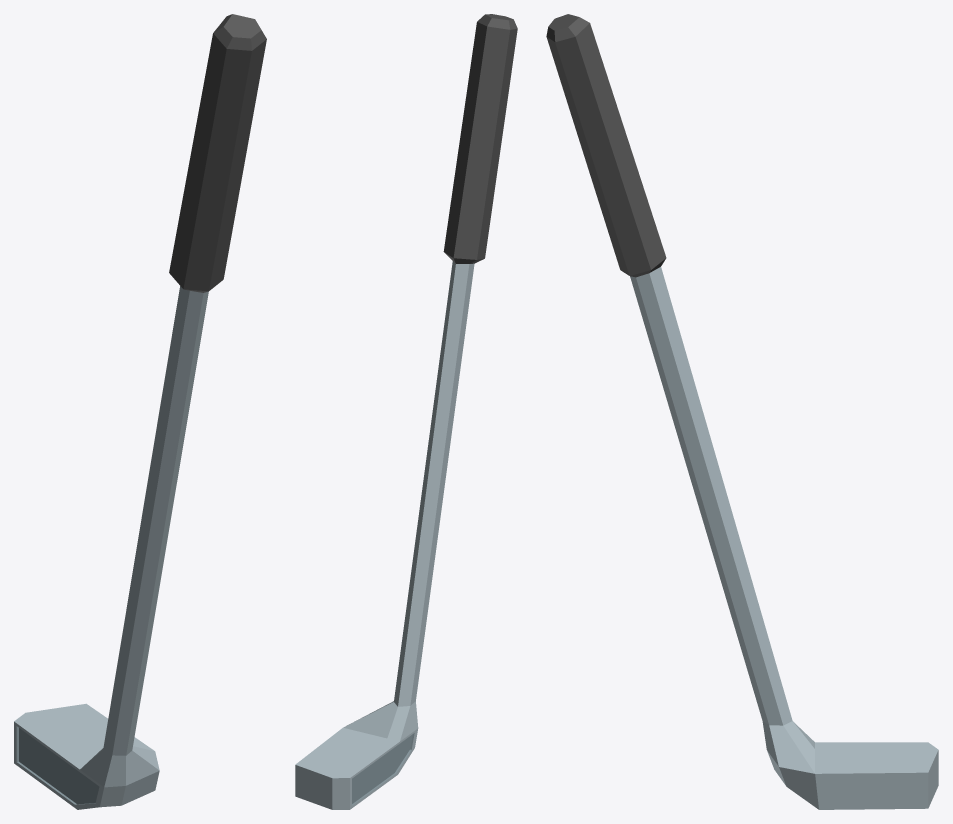
The picture shows the model from 3 angles, left to right: view 1: azimuth 30°, elevation 25°; view 2: azimuth 150°, elevation 25°; view 3: azimuth 270°, elevation 25°; orthographic projection. The views are drawn at different scales.
Size of the model in its own units: 1.43 by 14.98 by 6.93.
